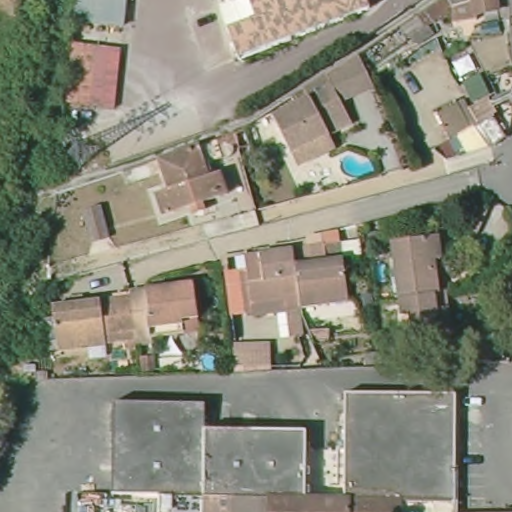pool: (332, 151, 381, 179), (371, 262, 395, 288), (196, 353, 221, 376)
